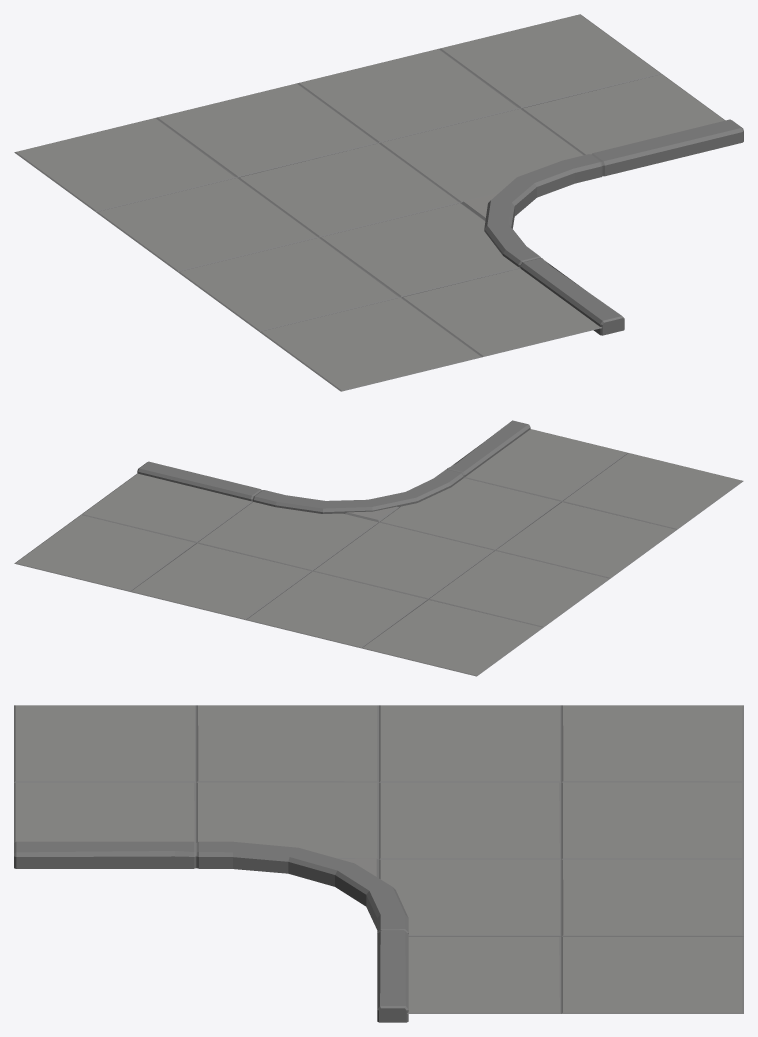
File: SM_Envr_Road_Sidewalk_Corner_Out.fbx
3 renders of one model, top to bottom at view 1: azimuth 30°, elevation 25°; view 2: azimuth 150°, elevation 25°; view 3: azimuth 270°, elevation 25°, orthographic. The views are drawn at different scales.
Visible parts, largest first — view 1: SM_Envr_Road_Sidewalk_Corner_Out; view 2: SM_Envr_Road_Sidewalk_Corner_Out; view 3: SM_Envr_Road_Sidewalk_Corner_Out.
Boxes of the visible parts, bbox=[...] form: SM_Envr_Road_Sidewalk_Corner_Out: bbox=[14, 14, 743, 391]; SM_Envr_Road_Sidewalk_Corner_Out: bbox=[14, 420, 743, 676]; SM_Envr_Road_Sidewalk_Corner_Out: bbox=[14, 705, 743, 1022].
Bounding box in the file's own units: 1000 × 23.32 × 1000.
